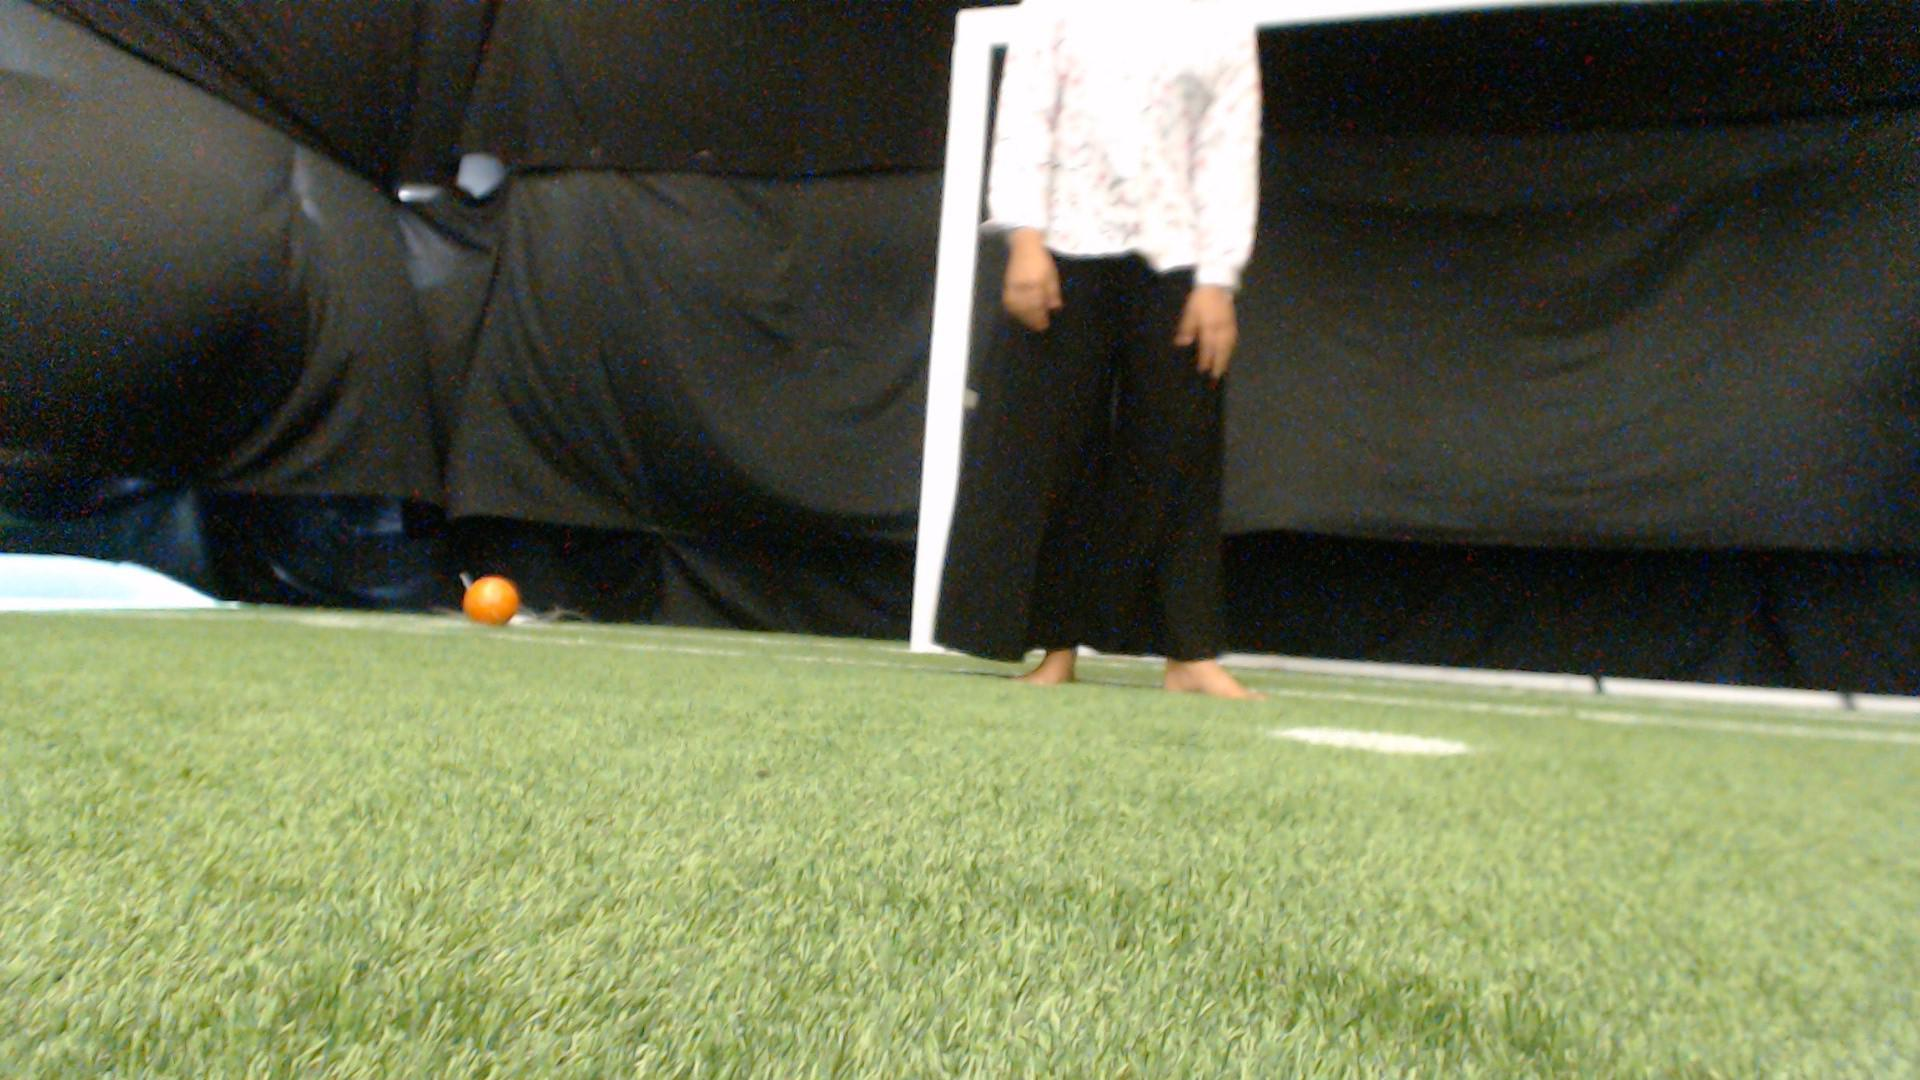bola: (455, 566, 531, 636)
